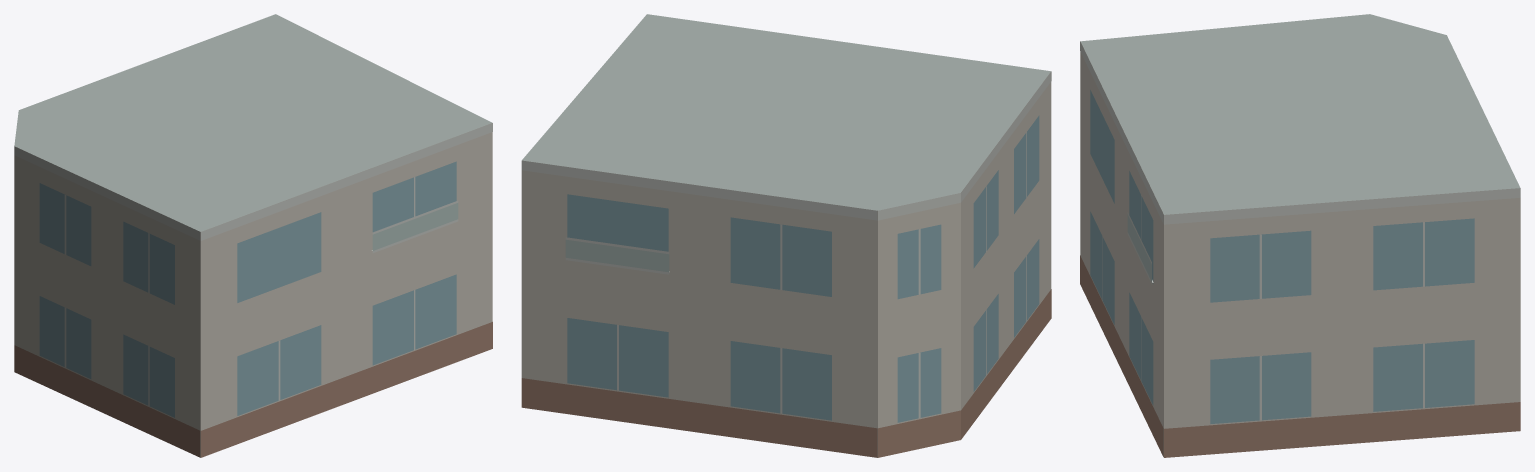
File: survey-upis-32597864.glb
3 renders of one model, left to right at view 1: azimuth 30°, elevation 25°; view 2: azimuth 150°, elevation 25°; view 3: azimuth 270°, elevation 25°, orthographic. The views are drawn at different scales.
Visible parts, largest first — view 1: survey-upis-32597864.tmp; view 2: survey-upis-32597864.tmp; view 3: survey-upis-32597864.tmp.
Part boxes in pixels (x1=…): survey-upis-32597864.tmp: x1=14, y1=14, x2=492, y2=457; survey-upis-32597864.tmp: x1=521, y1=14, x2=1051, y2=457; survey-upis-32597864.tmp: x1=1080, y1=14, x2=1520, y2=457.
Bounding box in the file's own units: 10.83 × 6.1 × 10.03.
